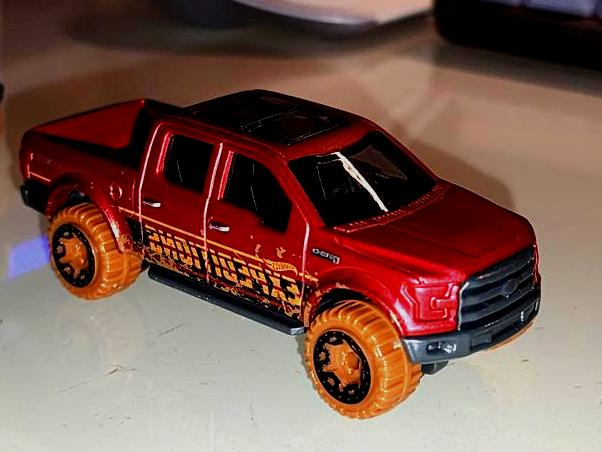toy-car: (21, 88, 543, 420)
